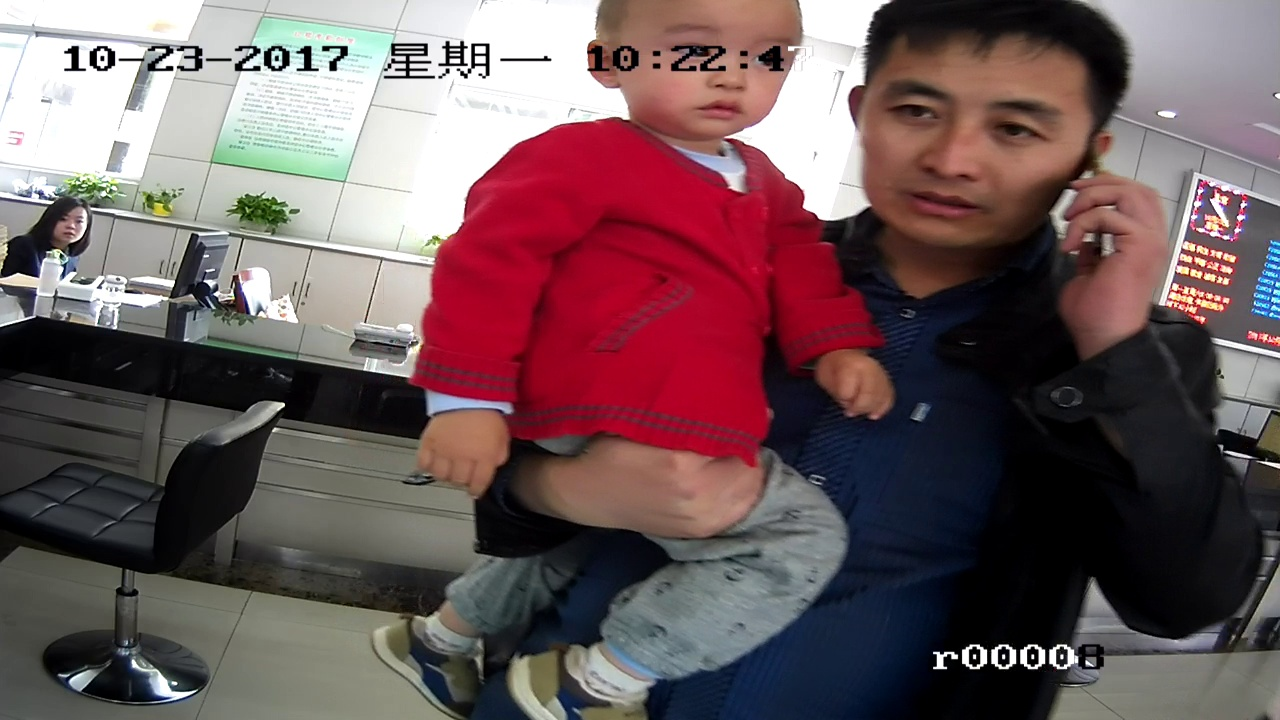billboard: (224, 20, 366, 173)
chair: (12, 405, 317, 708)
person: (821, 9, 1191, 461), (573, 1, 827, 272), (21, 196, 105, 261)
pot: (235, 192, 298, 230)
